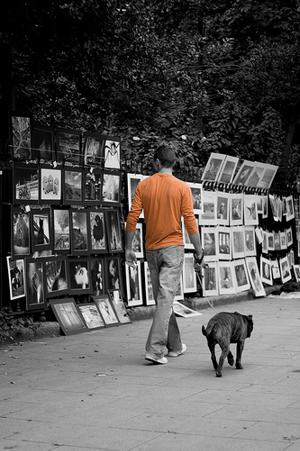person: (124, 142, 203, 368)
